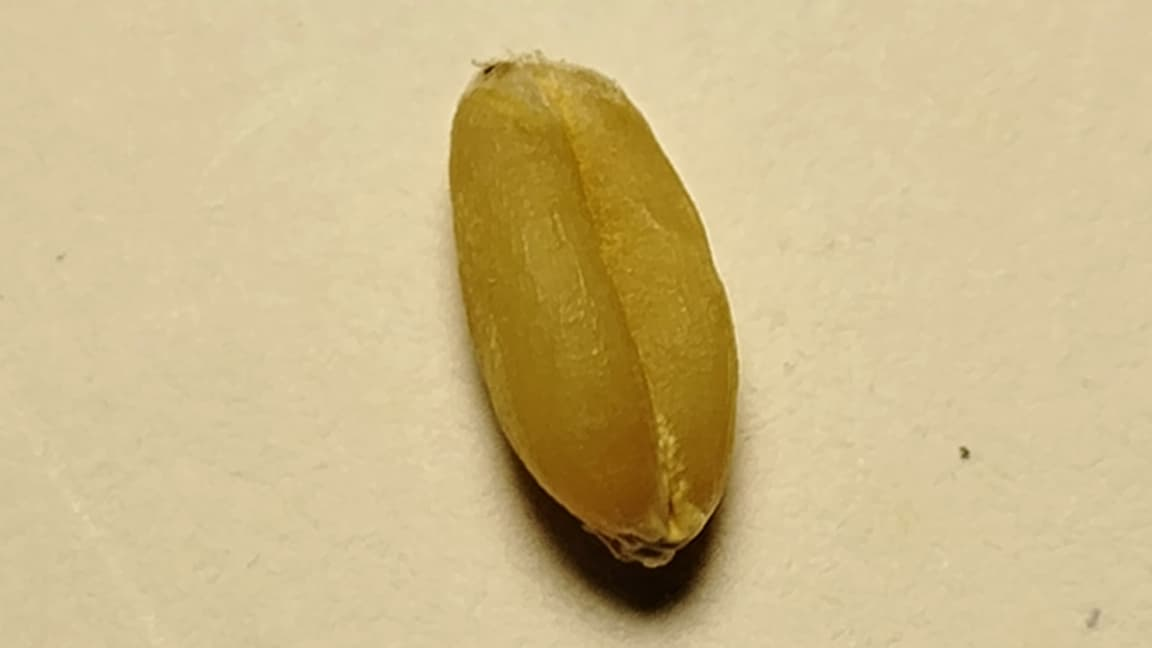healthy: (450, 56, 737, 565)
